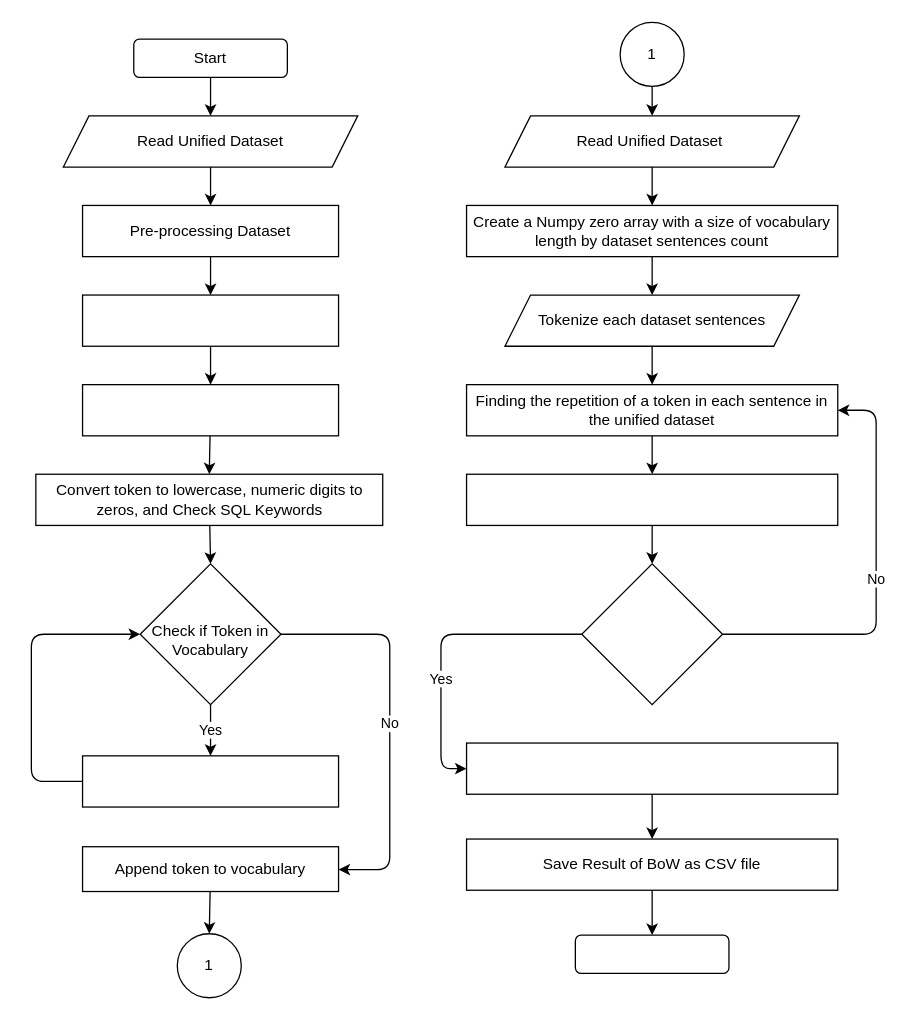
This 909x1020 diagram has some shape labels left out. The centre of each missing label's shape, as x and y in pixels:
"Create Tokens using NLTK" belongs at [210,409].
"Creating an Empty Vocabulary List" belongs at [210,320].
"End" belongs at [651,953].
"End of Dataset Sentences?" belongs at [651,634].
"Place token repetition in the proper location of BoW" belongs at [651,499].
"Skip Token" belongs at [210,781].
"Unify Vocabulary with BoW array" belongs at [651,768].
